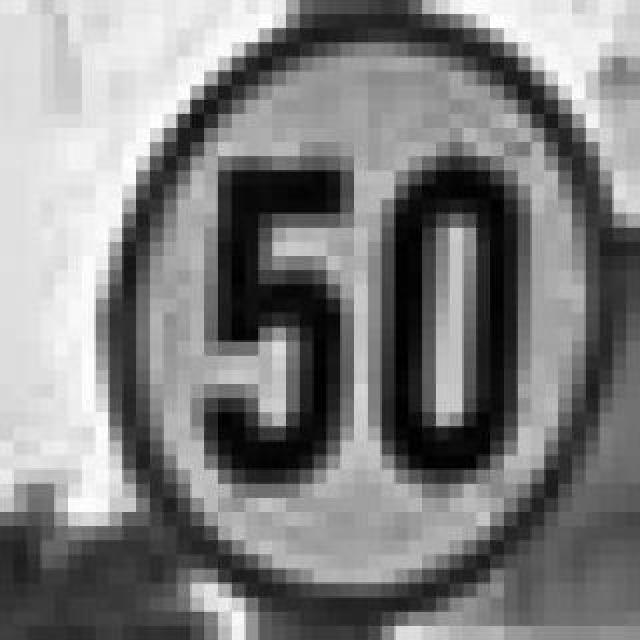50 kph: (82, 0, 586, 584)
